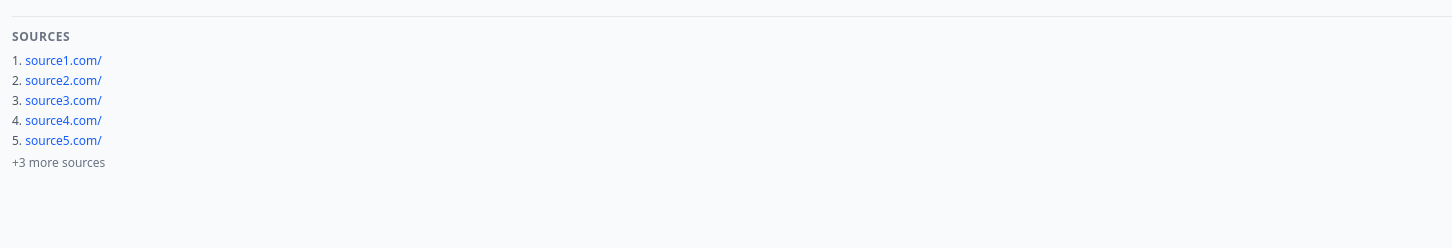
CitationsList › collapses when more than 5 citations
Expected: the number of links is 5, x1=25 y1=52 x2=102 y2=69; x1=25 y1=72 x2=102 y2=89; x1=25 y1=92 x2=102 y2=109; x1=25 y1=112 x2=102 y2=129; x1=25 y1=132 x2=102 y2=149
Click the button "+3 more sources". click: click(59, 163)
box: x1=12 y1=155 x2=105 y2=171
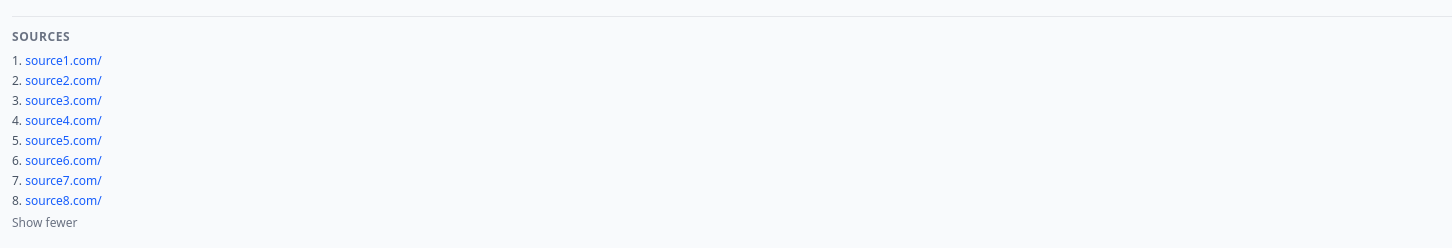
Result: the number of links is 8
Result: the button "Show fewer" is shown
// Collapse again
Click the button "Show fewer". click: click(45, 223)
box: x1=12 y1=215 x2=77 y2=231
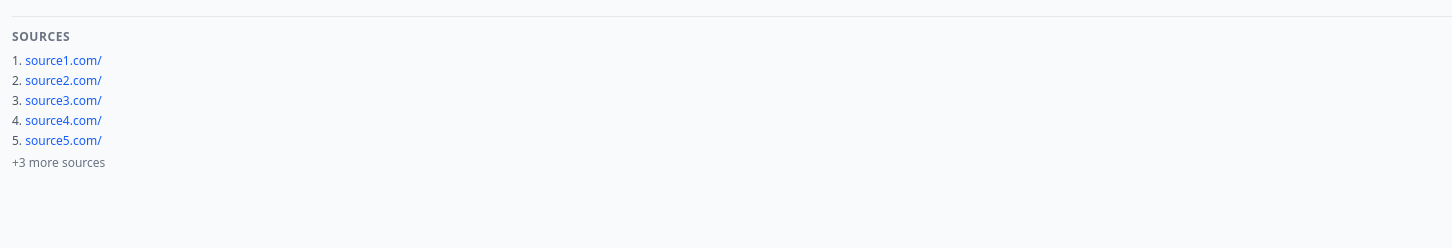
Result: the number of links is 5 at x1=25 y1=52 x2=102 y2=69; x1=25 y1=72 x2=102 y2=89; x1=25 y1=92 x2=102 y2=109; x1=25 y1=112 x2=102 y2=129; x1=25 y1=132 x2=102 y2=149
